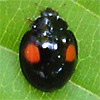Two_spots: (18, 2, 78, 92)
